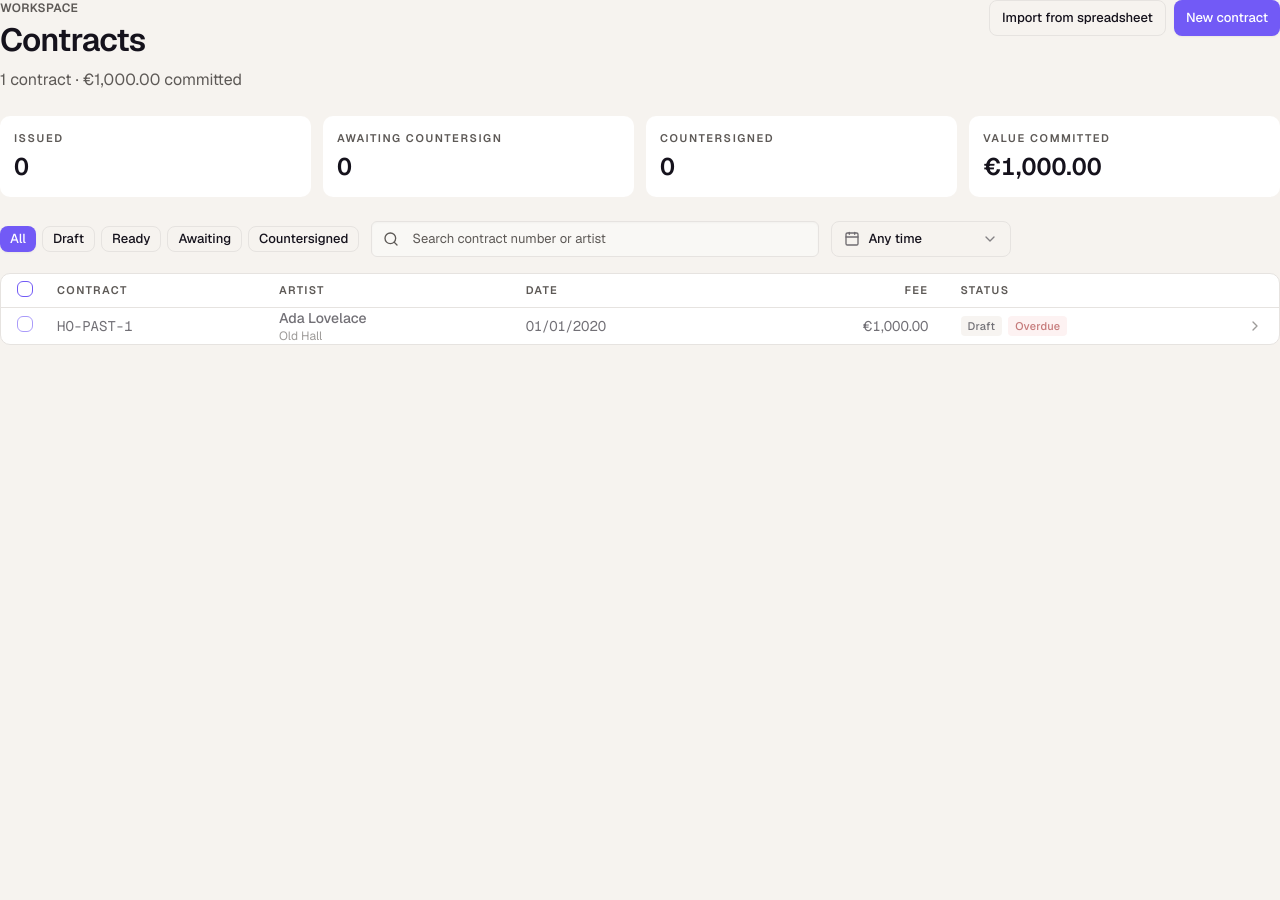
Test: HireOrdersPage › timeframe filter (Plan B fix wave: defaults to All time, not Upcoming) › keeps a past order clickable under the default All-time filter (opens the slide-over)
Click the text "HO-PAST-1" at {"x": 95, "y": 326}, box [57,317,133,335]
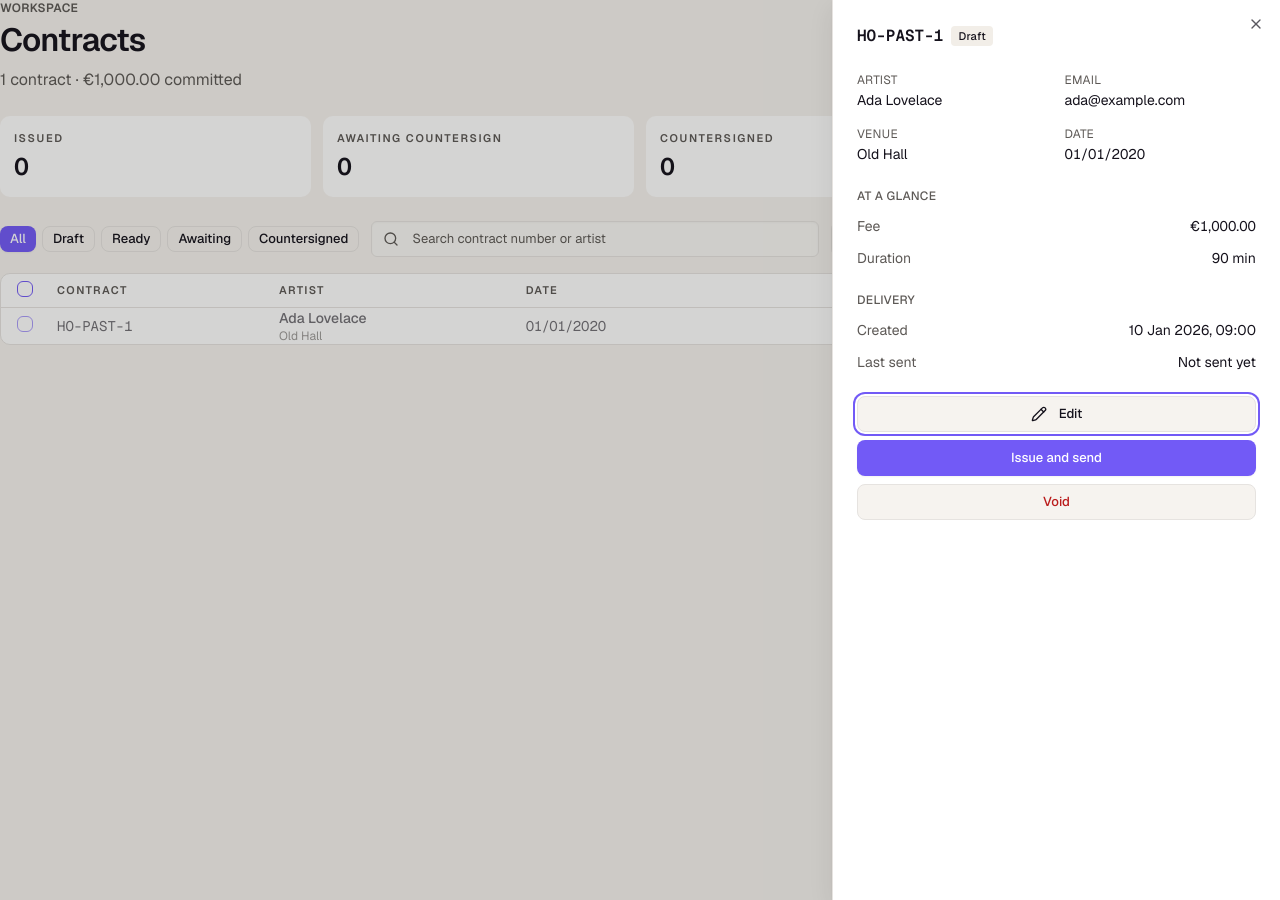
Check: the dialog is shown, box [832,0,1279,899]
